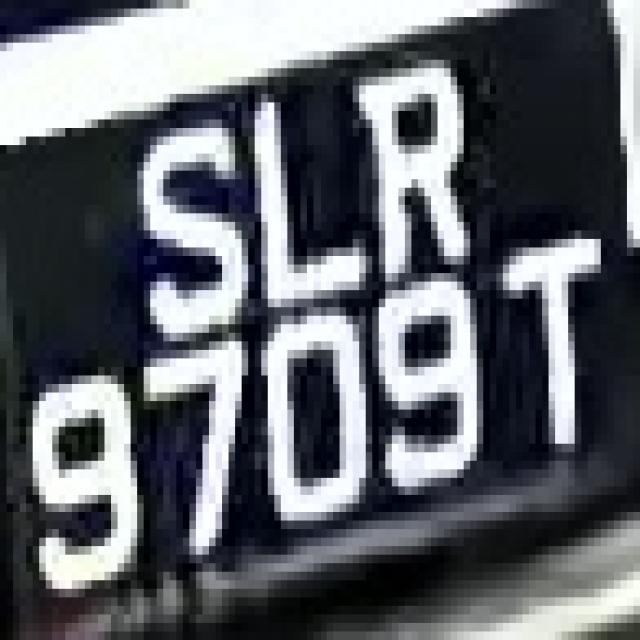0: (242, 282, 372, 529)
7: (118, 341, 274, 572)
9: (13, 367, 150, 623), (366, 256, 496, 503)
L: (222, 77, 366, 307)
R: (353, 43, 496, 290)
S: (118, 111, 248, 341)
T: (477, 230, 614, 470)
